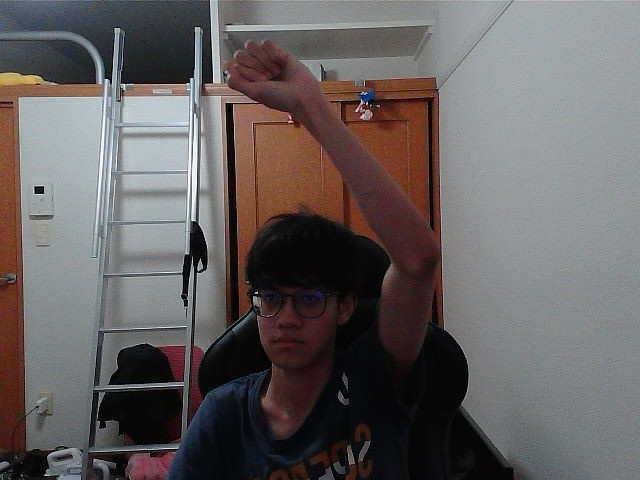closed_palm: (231, 44, 294, 97)
